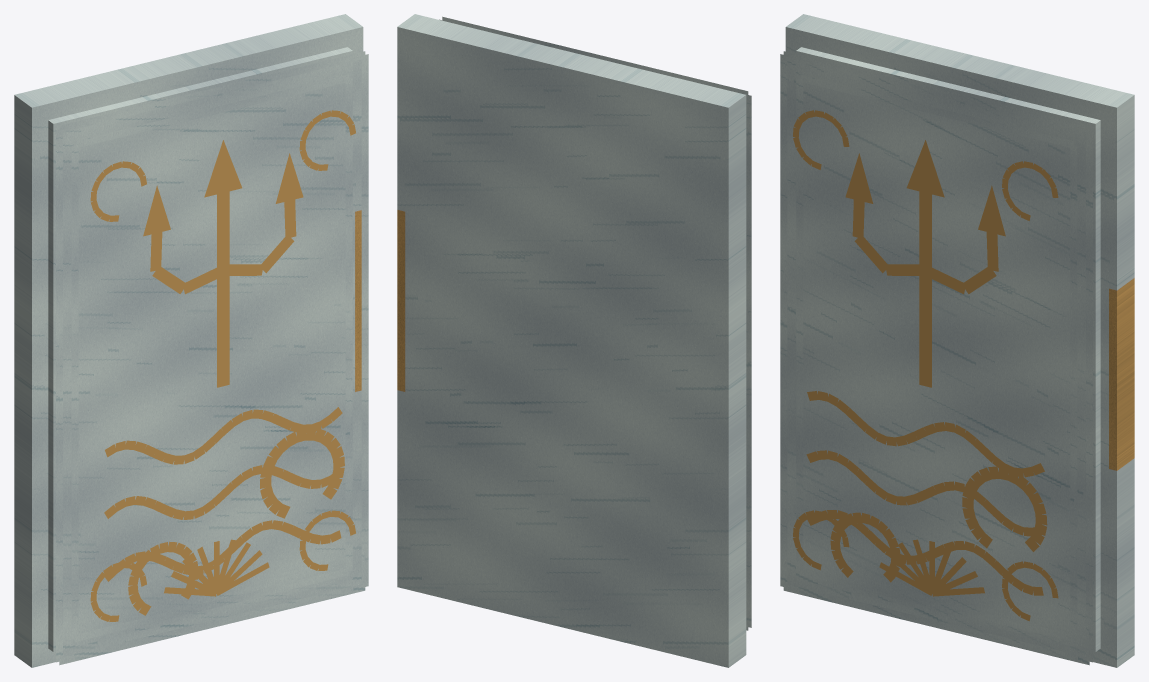
File: poseidon-portal-relief.glb
3 views of the same model, side by side, from view 1: azimuth 30°, elevation 25°; view 2: azimuth 150°, elevation 25°; view 3: azimuth 330°, elevation 25° (orthographic).
Visible parts, largest first — view 1: POS-ARC-V9-001 Marine Portal Bas Relief; view 2: POS-ARC-V9-001 Marine Portal Bas Relief; view 3: POS-ARC-V9-001 Marine Portal Bas Relief.
Boxes of the visible parts, bbox=[...] form: POS-ARC-V9-001 Marine Portal Bas Relief: bbox=[14, 14, 368, 667]; POS-ARC-V9-001 Marine Portal Bas Relief: bbox=[397, 14, 751, 667]; POS-ARC-V9-001 Marine Portal Bas Relief: bbox=[780, 14, 1134, 667].
Bounding box in the file's own units: 2.6 × 4.2 × 0.59.
1 material, 1 textured.
